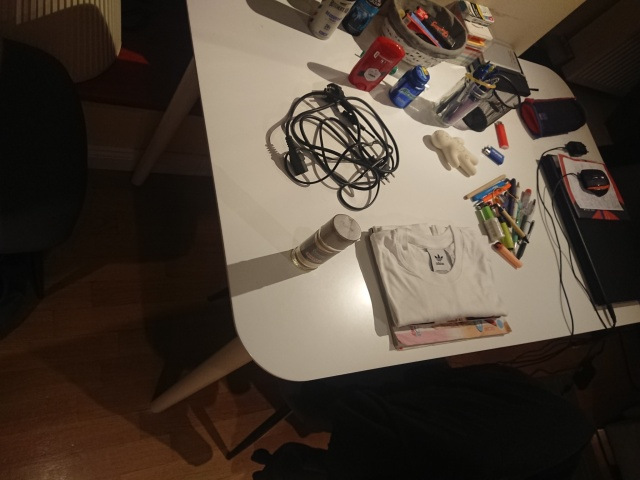Kotanyi Garlic Granules 70g: (289, 212, 363, 273)
